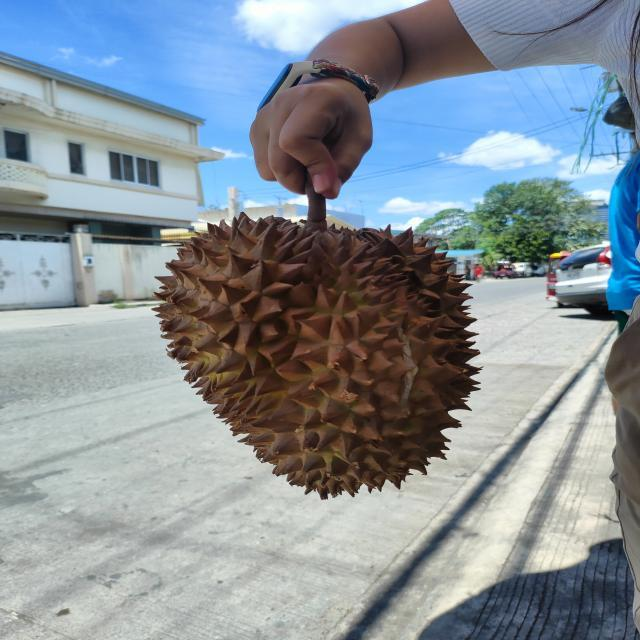mature: (153, 212, 483, 498)
